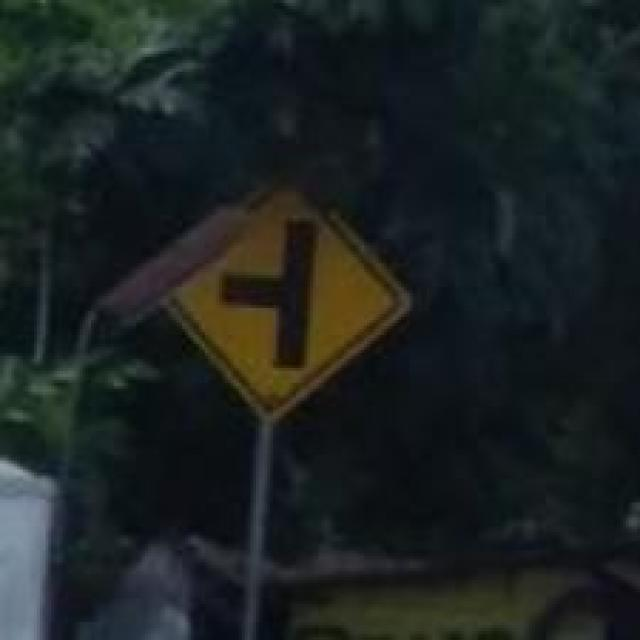traffic sign: (182, 194, 410, 424)
